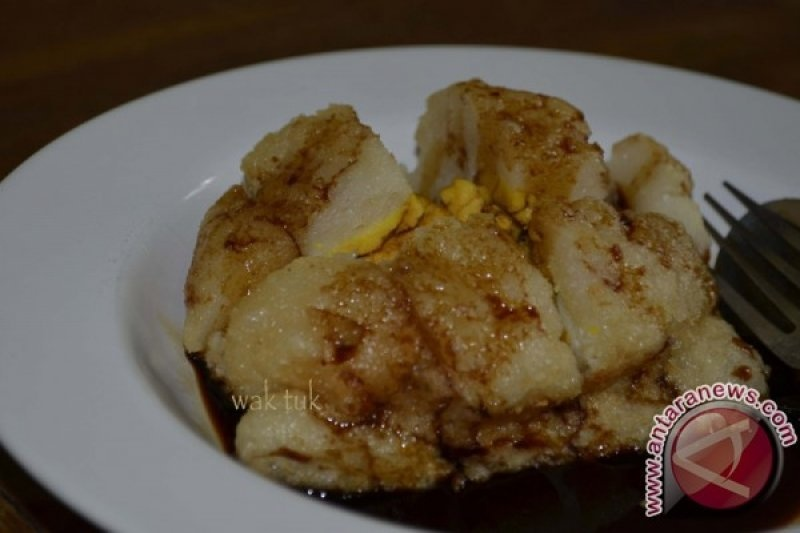pempek: (180, 88, 763, 482)
